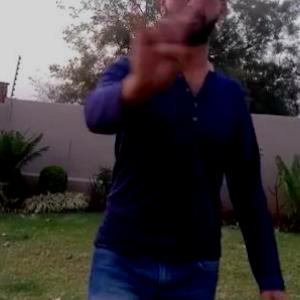takeoff-hand: (116, 0, 201, 94)
